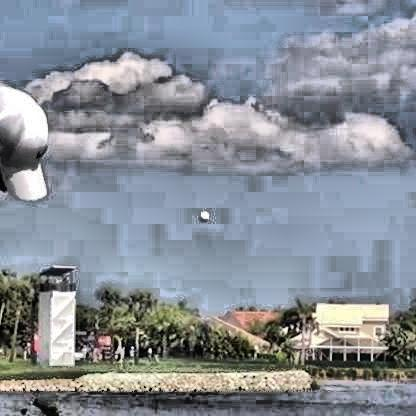golfball: (197, 208, 211, 223)
